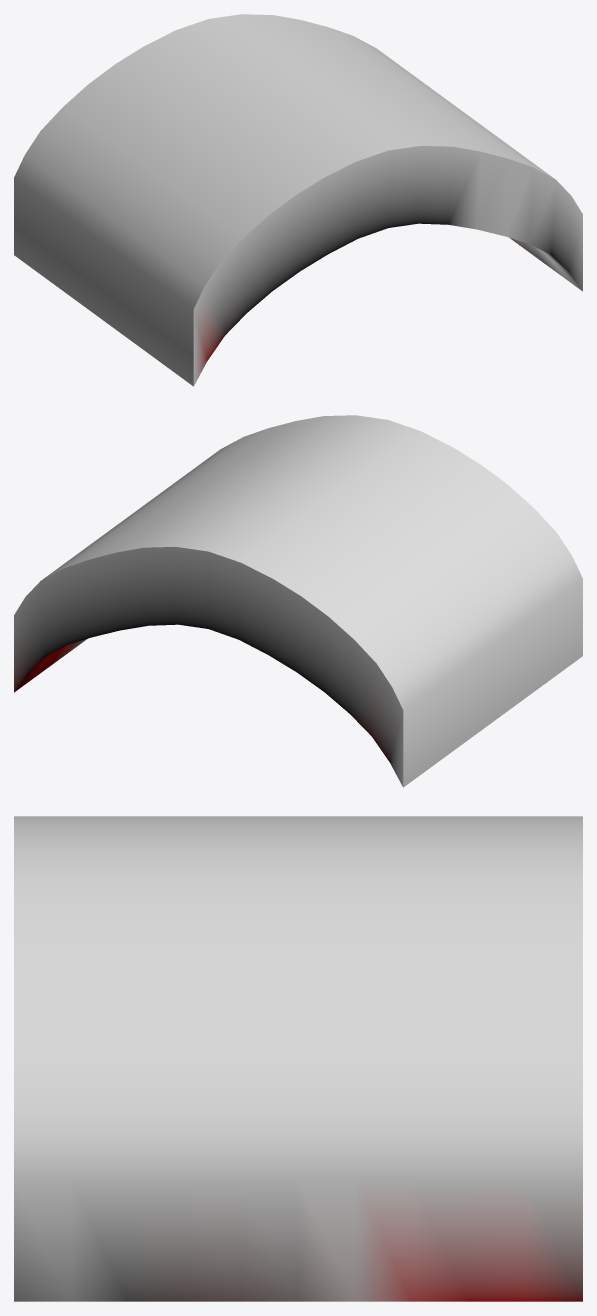
File: SM_Roof_Arc_Crypt_Var_03.fbx
3 renders of one model, top to bottom at view 1: azimuth 30°, elevation 25°; view 2: azimuth 150°, elevation 25°; view 3: azimuth 270°, elevation 25°, orthographic. The views are drawn at different scales.
Visible parts, largest first — view 1: SM_Roof_Arc_Crypt_Var_03_LOD0; view 2: SM_Roof_Arc_Crypt_Var_03_LOD0; view 3: SM_Roof_Arc_Crypt_Var_03_LOD0.
Boxes of the visible parts, x1,y1,x2,y2 form: SM_Roof_Arc_Crypt_Var_03_LOD0: [14, 14, 582, 386]; SM_Roof_Arc_Crypt_Var_03_LOD0: [14, 415, 582, 787]; SM_Roof_Arc_Crypt_Var_03_LOD0: [14, 816, 582, 1301].
Bounding box in the file's own units: 500 × 400 × 232.
